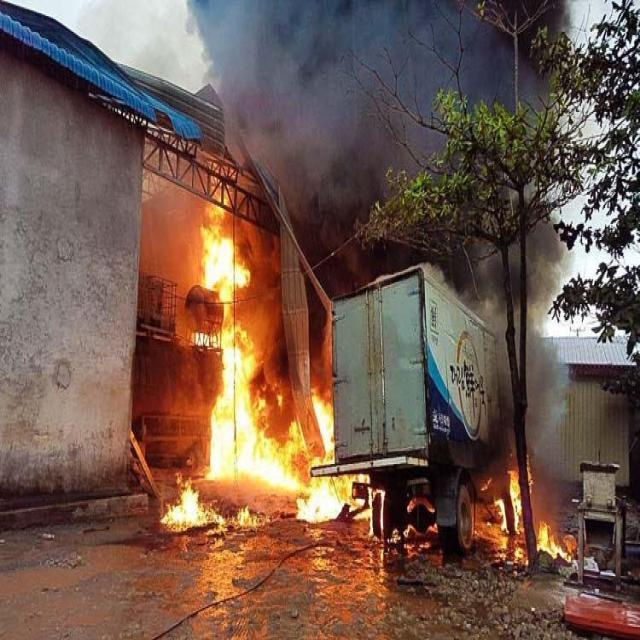Fire: (158, 179, 437, 544), (481, 452, 577, 569)
Smoke: (186, 2, 581, 456)
